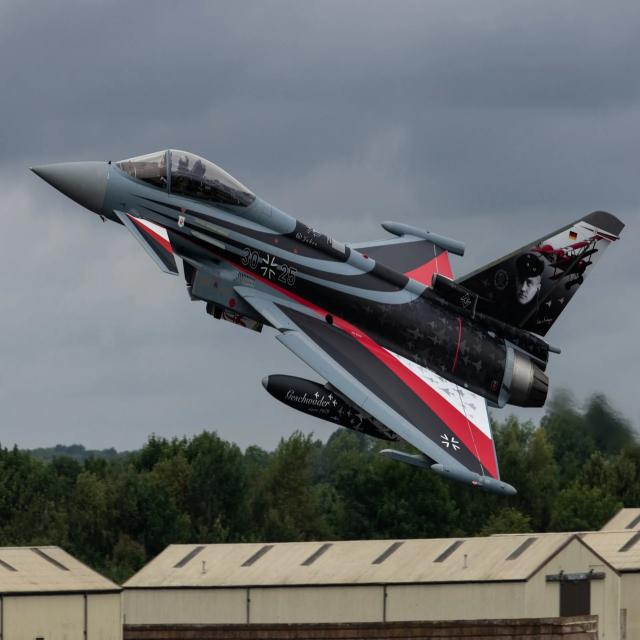MIL_Plane: (34, 149, 631, 496)
